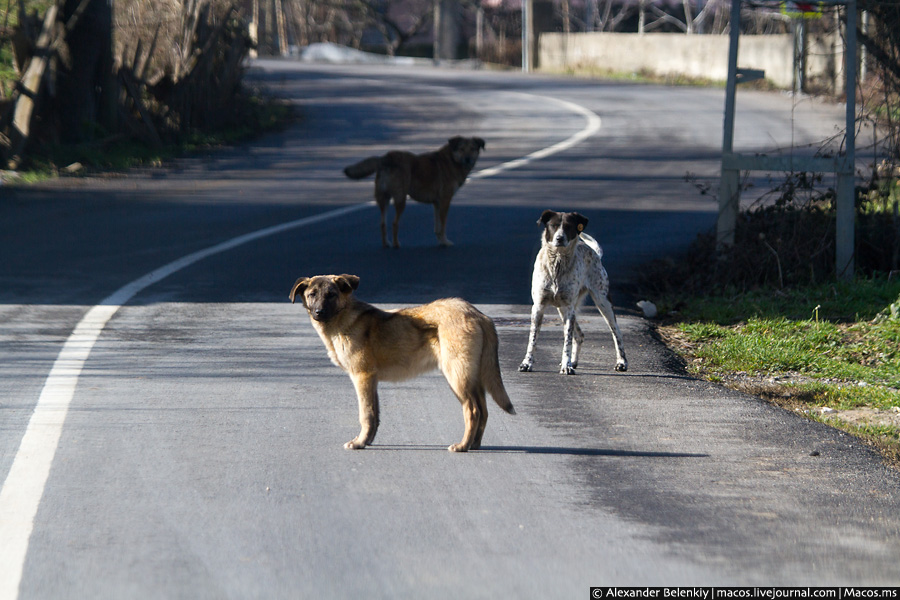kopek: (289, 275, 495, 454), (523, 205, 630, 391), (339, 146, 489, 238)
